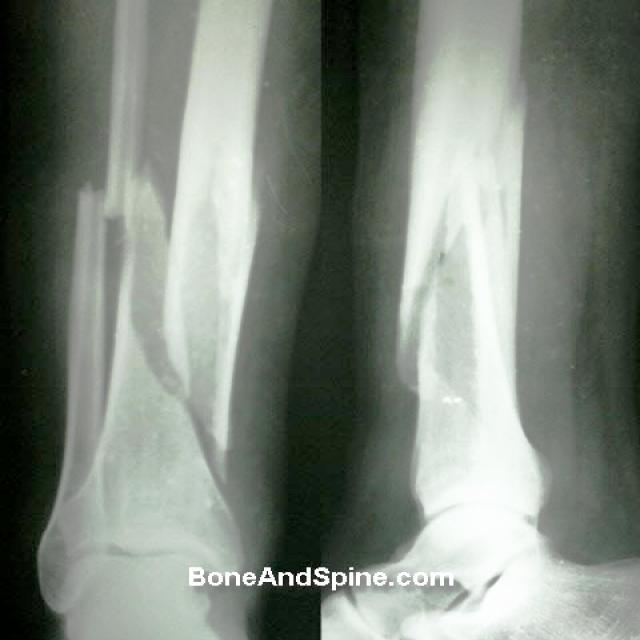spiral fracture: (121, 151, 234, 474), (394, 110, 492, 411), (50, 170, 134, 227)
